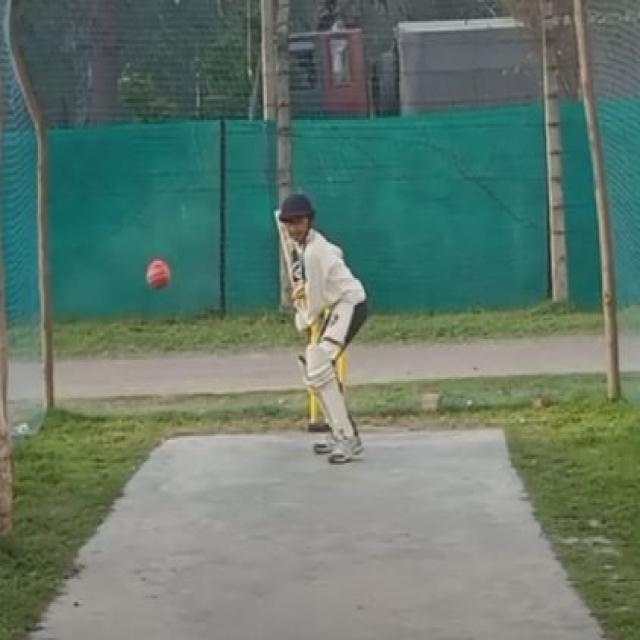ball: (142, 250, 179, 297)
